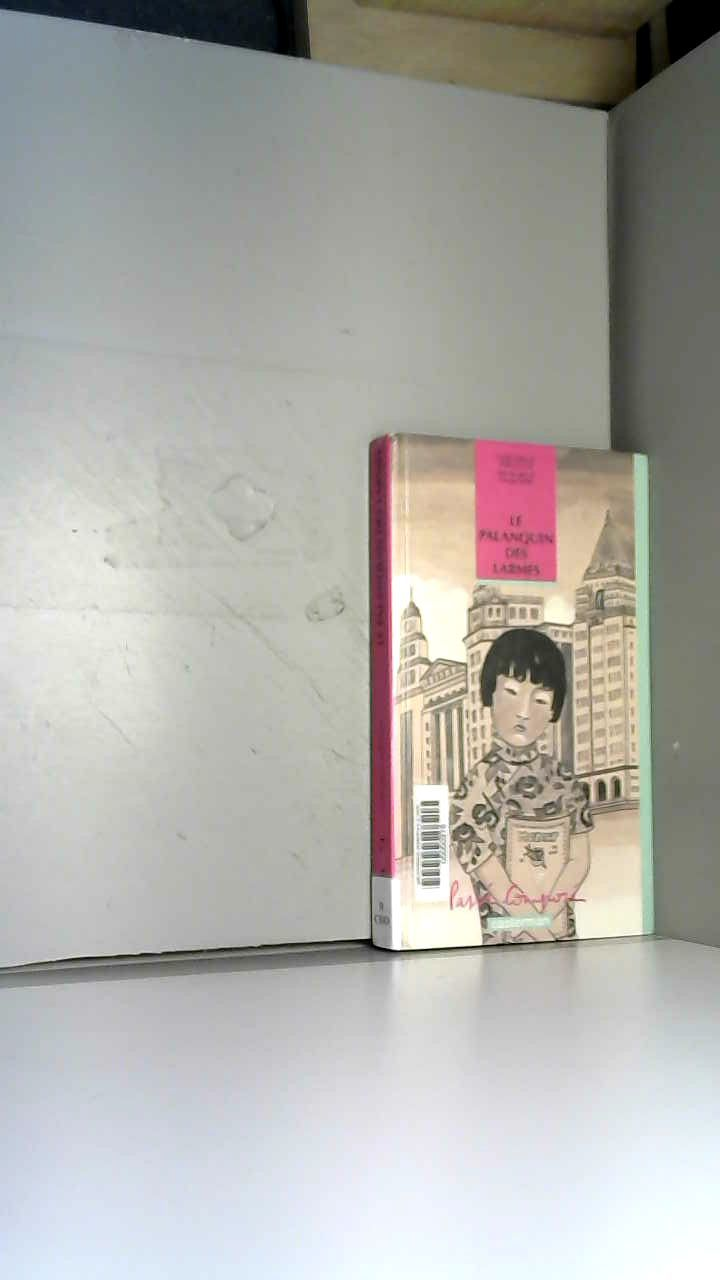book: (327, 390, 699, 990)
